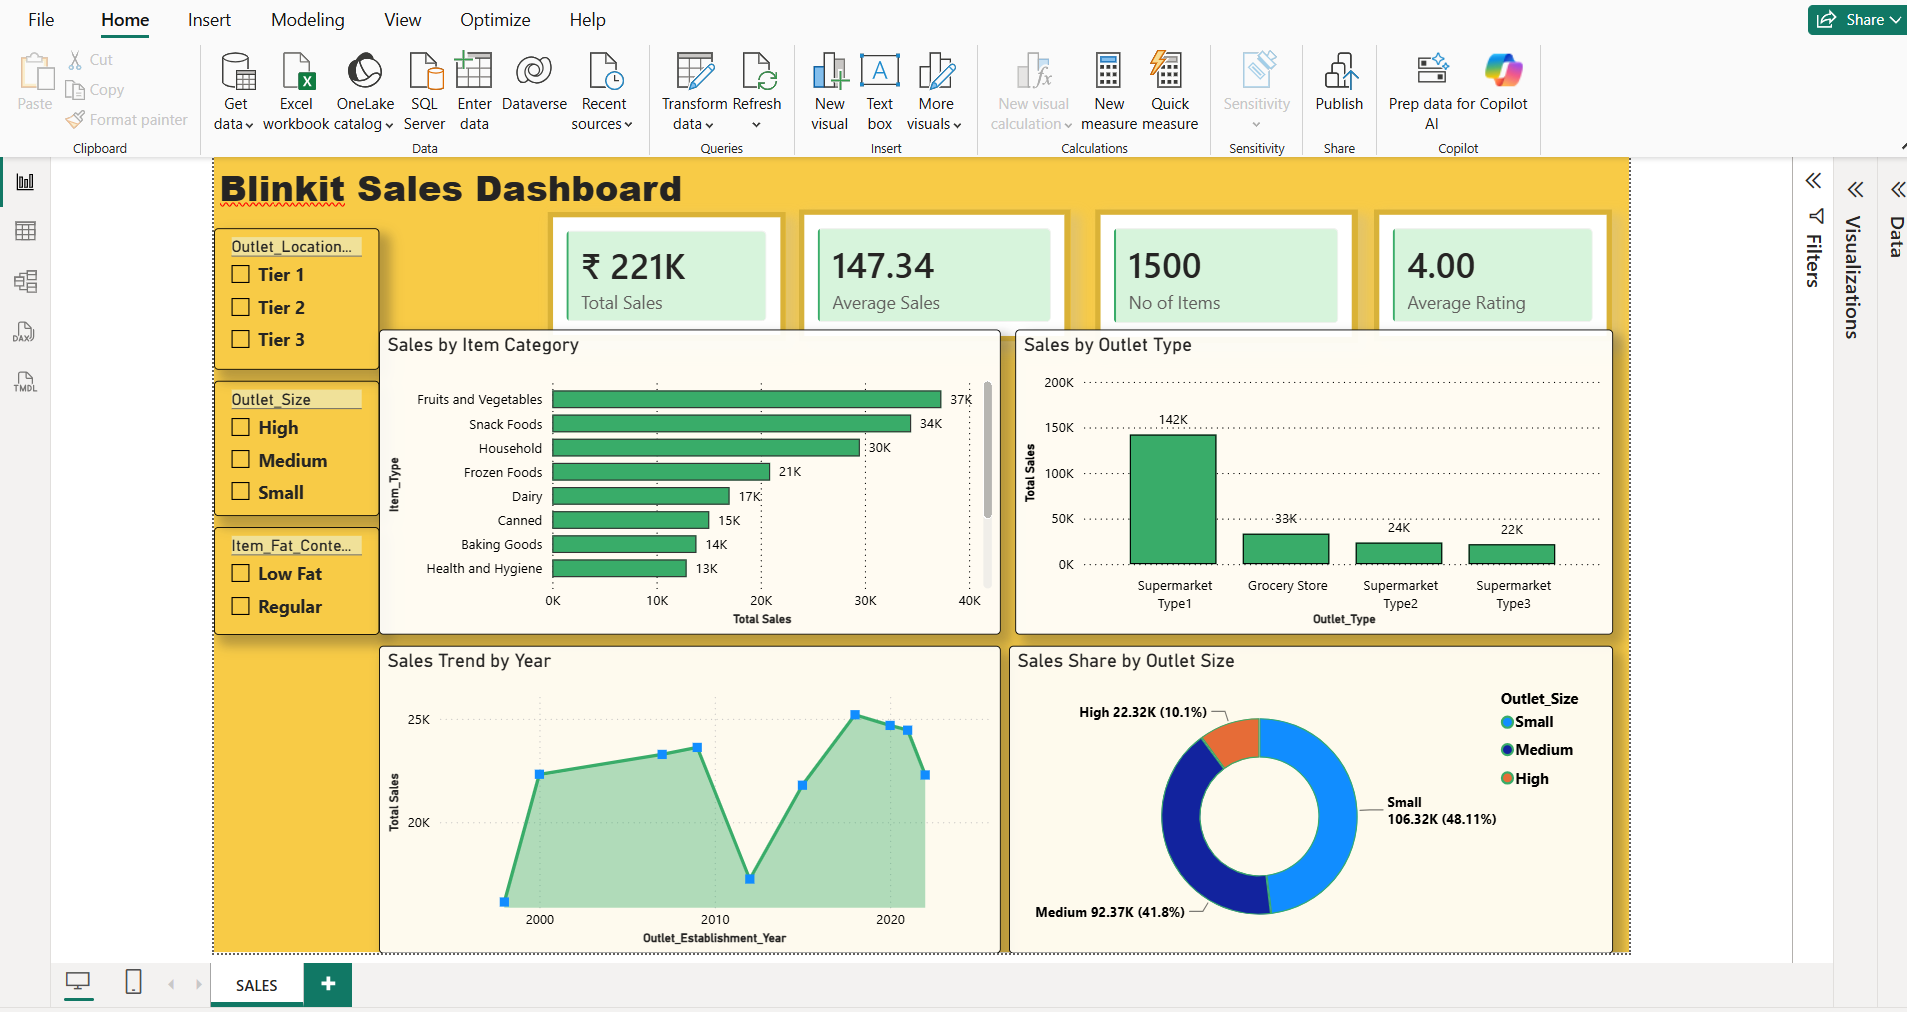

What the dashboard file says about the page in this screenshot:
{"tool":"powerbi","page":{"name":"Page 1","canvas":[1280,720],"ordinal":0},"visuals":[{"type":"textbox","box":[0,0,1279.9,720.2],"z":0},{"type":"cardVisual","fields":{"Data":["blinkit_sales_raw.Total Sales"]},"box":[301.9,49.7,215.4,116.6],"z":1000},{"type":"cardVisual","fields":{"Data":["blinkit_sales_raw.Average Sales"]},"box":[529.7,48,245.6,119.4],"z":2000},{"type":"cardVisual","fields":{"Data":["blinkit_sales_raw.No of Items"]},"box":[797.3,48,237.4,120.8],"z":3000},{"type":"cardVisual","fields":{"Data":["blinkit_sales_raw.Average Rating"]},"box":[1049.7,48,215.4,119.4],"z":4000},{"type":"slicer","fields":{"Values":["blinkit_sales_raw.Outlet_Location_Type"]},"box":[0,64.4,149.2,127.8],"z":5000},{"type":"slicer","fields":{"Values":["blinkit_sales_raw.Outlet_Size"]},"box":[0,202.4,149.2,122.1],"z":6000},{"type":"slicer","fields":{"Values":["blinkit_sales_raw.Item_Fat_Content"]},"box":[0,334.7,149.2,97.2],"z":7000},{"type":"clusteredBarChart","title":"Sales by Item Category","fields":{"Category":["blinkit_sales_raw.Item_Type"],"Y":["blinkit_sales_raw.Total Sales"]},"box":[149.6,156.4,562.6,275.8],"z":8000},{"type":"clusteredColumnChart","title":"Sales by Outlet Type","fields":{"Category":["blinkit_sales_raw.Outlet_Type"],"Y":["blinkit_sales_raw.Total Sales"]},"box":[724.5,156.4,540.7,275.8],"z":9000},{"type":"lineChart","title":"Sales Trend by Year","fields":{"Category":["blinkit_sales_raw.Outlet_Establishment_Year"],"Y":["blinkit_sales_raw.Total Sales"]},"box":[149.6,441.9,562.6,278.6],"z":10000},{"type":"donutChart","title":"Sales Share by Outlet Size","fields":{"Category":["blinkit_sales_raw.Outlet_Size"],"Y":["blinkit_sales_raw.Total Sales"]},"box":[719.1,442.1,546.1,278.1],"z":11000}]}

Visuals, with their boxes on the page's 1280x720 design canvas (x1, y1, x2, y2). These are canvas units, not pixel positions in the 1907x1012 screenshot, which may show the page scaled, cropped or inside an application window:
textbox: [x1=0, y1=0, x2=1280, y2=720]
cardVisual - blinkit_sales_raw.Total Sales: [x1=302, y1=50, x2=517, y2=166]
cardVisual - blinkit_sales_raw.Average Sales: [x1=530, y1=48, x2=775, y2=167]
cardVisual - blinkit_sales_raw.No of Items: [x1=797, y1=48, x2=1035, y2=169]
cardVisual - blinkit_sales_raw.Average Rating: [x1=1050, y1=48, x2=1265, y2=167]
slicer - blinkit_sales_raw.Outlet_Location_Type: [x1=0, y1=64, x2=149, y2=192]
slicer - blinkit_sales_raw.Outlet_Size: [x1=0, y1=202, x2=149, y2=324]
slicer - blinkit_sales_raw.Item_Fat_Content: [x1=0, y1=335, x2=149, y2=432]
"Sales by Item Category" clusteredBarChart: [x1=150, y1=156, x2=712, y2=432]
"Sales by Outlet Type" clusteredColumnChart: [x1=724, y1=156, x2=1265, y2=432]
"Sales Trend by Year" lineChart: [x1=150, y1=442, x2=712, y2=720]
"Sales Share by Outlet Size" donutChart: [x1=719, y1=442, x2=1265, y2=720]
